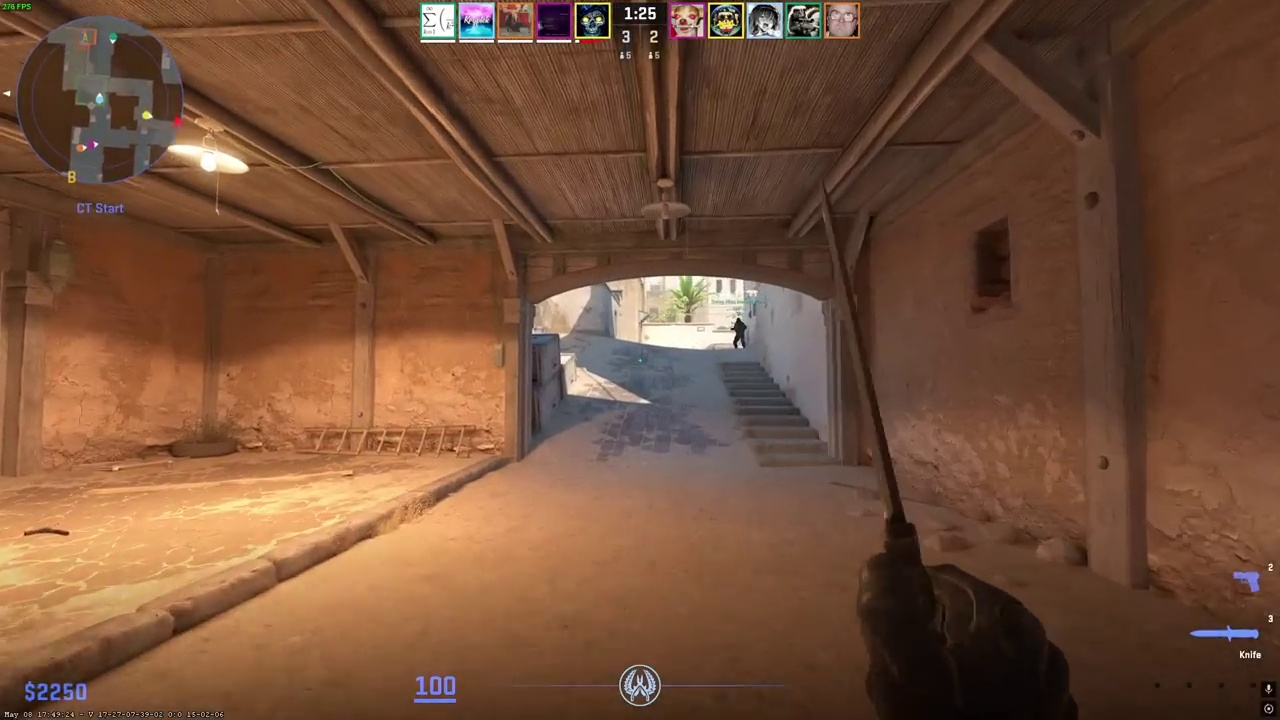CT: (731, 317, 747, 349)
